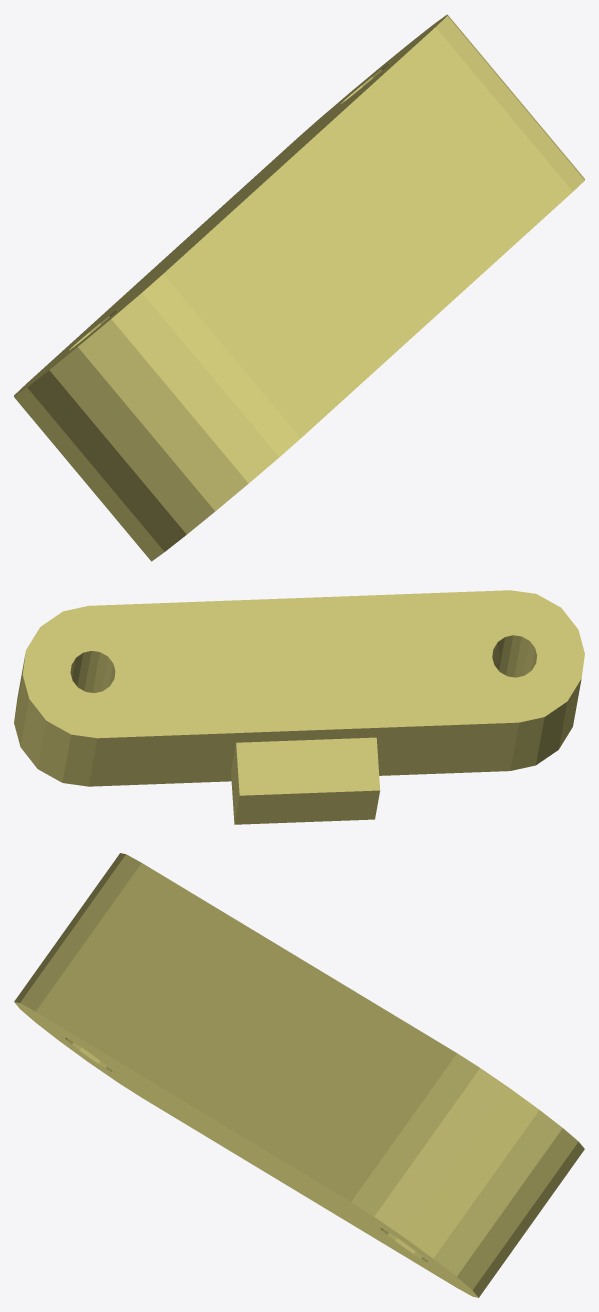
The model's file is LARM_THUMB2_LINK_mesh.dae.
3 views of the same model, one above another, from view 1: azimuth 30°, elevation 25°; view 2: azimuth 150°, elevation 25°; view 3: azimuth 270°, elevation 25° (orthographic). The views are drawn at different scales.
Parts seen in each view (by area): view 1: LARM_THUMB2_LINK; view 2: LARM_THUMB2_LINK; view 3: LARM_THUMB2_LINK.
Boxes of the visible parts, x1=… form: LARM_THUMB2_LINK: x1=14, y1=14, x2=584, y2=561; LARM_THUMB2_LINK: x1=14, y1=590, x2=584, y2=824; LARM_THUMB2_LINK: x1=14, y1=853, x2=584, y2=1297.
Bounding box in the file's own units: 0.0377 × 0.0156 × 0.0312.
